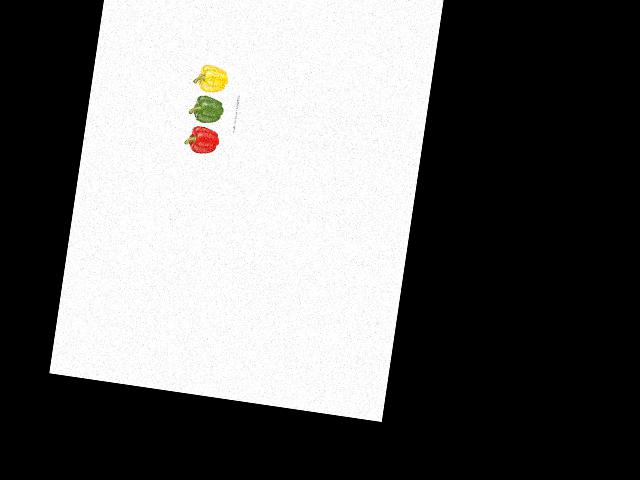bell_pepper: (192, 61, 232, 97)
